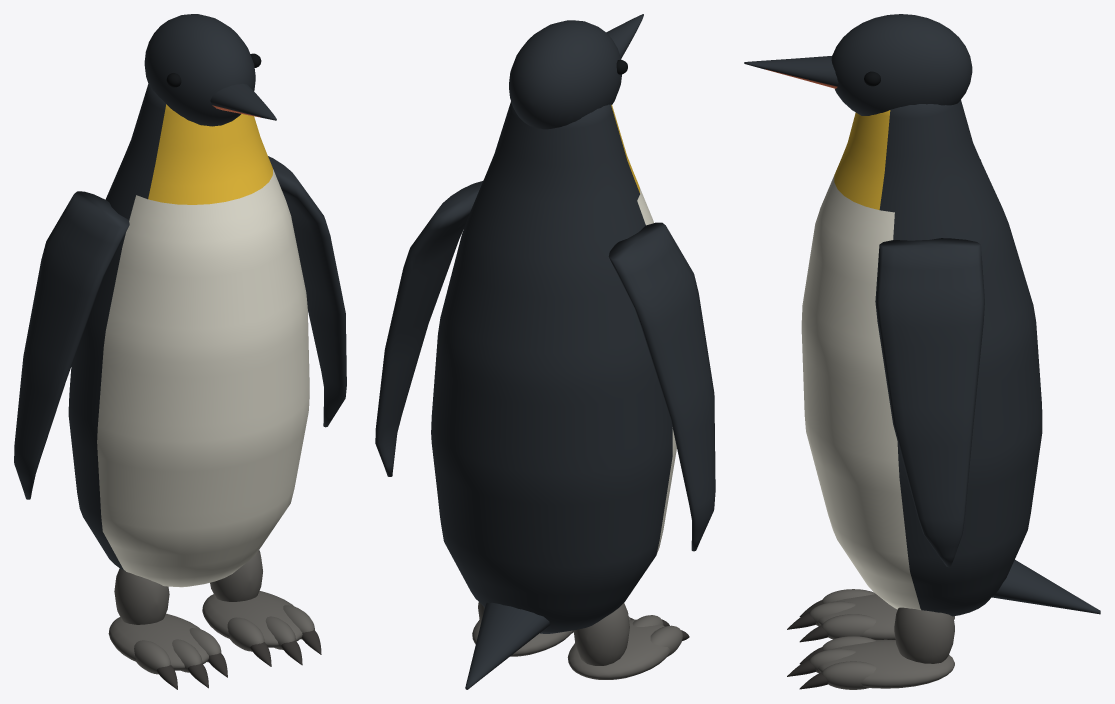
3 renders of one model, left to right at view 1: azimuth 30°, elevation 25°; view 2: azimuth 150°, elevation 25°; view 3: azimuth 270°, elevation 25°, orthographic. The views are drawn at different scales.
Parts seen in each view (by area): view 1: Body_closed_belly_back_neck, Left_closed_paddle_flipper, Head_closed_crown, Right_closed_paddle_flipper, Left_closed_webbed_foot, Right_closed_webbed_foot, Left_short_ankle, Right_short_ankle, Beak_closed_tapered_bill, Right_toe_-1, Left_toe_-1, Left_toe_0 (+1 smaller); view 2: Body_closed_belly_back_neck, Left_closed_paddle_flipper, Right_closed_paddle_flipper, Head_closed_crown, Tail_closed_short_wedge, Left_closed_webbed_foot, Left_short_ankle, Right_closed_webbed_foot, Beak_closed_tapered_bill, Left_toe_-1; view 3: Body_closed_belly_back_neck, Right_closed_paddle_flipper, Head_closed_crown, Right_closed_webbed_foot, Right_short_ankle, Tail_closed_short_wedge, Beak_closed_tapered_bill, Left_closed_webbed_foot, Right_toe_1, Left_toe_1.
Part boxes in pixels (box(x1,y1,x2,y2)): Body_closed_belly_back_neck: box(68, 84, 309, 587); Left_closed_paddle_flipper: box(14, 191, 129, 499); Head_closed_crown: box(144, 14, 255, 126); Right_closed_paddle_flipper: box(268, 156, 346, 427); Left_closed_webbed_foot: box(108, 613, 208, 670); Right_closed_webbed_foot: box(202, 591, 302, 647); Left_short_ankle: box(114, 568, 169, 624); Right_short_ankle: box(210, 550, 262, 601); Beak_closed_tapered_bill: box(210, 83, 276, 120); Right_toe_-1: box(227, 617, 264, 651); Left_toe_-1: box(134, 640, 170, 674); Left_toe_0: box(172, 639, 202, 672); Body_closed_belly_back_neck: box(431, 101, 676, 633); Left_closed_paddle_flipper: box(608, 222, 715, 551); Right_closed_paddle_flipper: box(375, 181, 482, 476); Head_closed_crown: box(509, 20, 621, 129); Tail_closed_short_wedge: box(465, 602, 550, 689); Left_closed_webbed_foot: box(567, 619, 671, 679); Left_short_ankle: box(573, 603, 629, 665); Right_closed_webbed_foot: box(472, 620, 572, 656); Beak_closed_tapered_bill: box(606, 14, 643, 58); Left_toe_-1: box(650, 625, 682, 656); Body_closed_belly_back_neck: box(801, 100, 1042, 616); Right_closed_paddle_flipper: box(875, 238, 984, 567); Head_closed_crown: box(831, 14, 972, 115); Right_closed_webbed_foot: box(818, 639, 954, 688); Right_short_ankle: box(894, 607, 954, 663); Tail_closed_short_wedge: box(992, 560, 1100, 614); Beak_closed_tapered_bill: box(744, 56, 838, 88); Left_closed_webbed_foot: box(818, 594, 954, 639); Right_toe_1: box(822, 661, 876, 689); Left_toe_1: box(822, 614, 876, 639).
Size of the model in its own units: 0.617 by 1.13 by 0.575.
